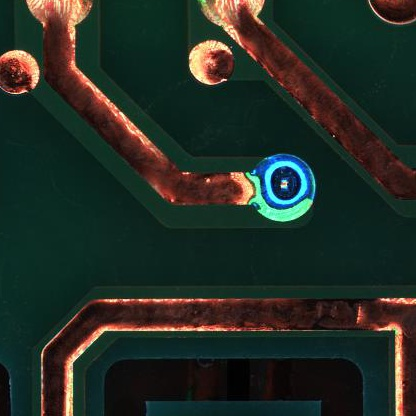spot: (253, 152, 315, 221)
